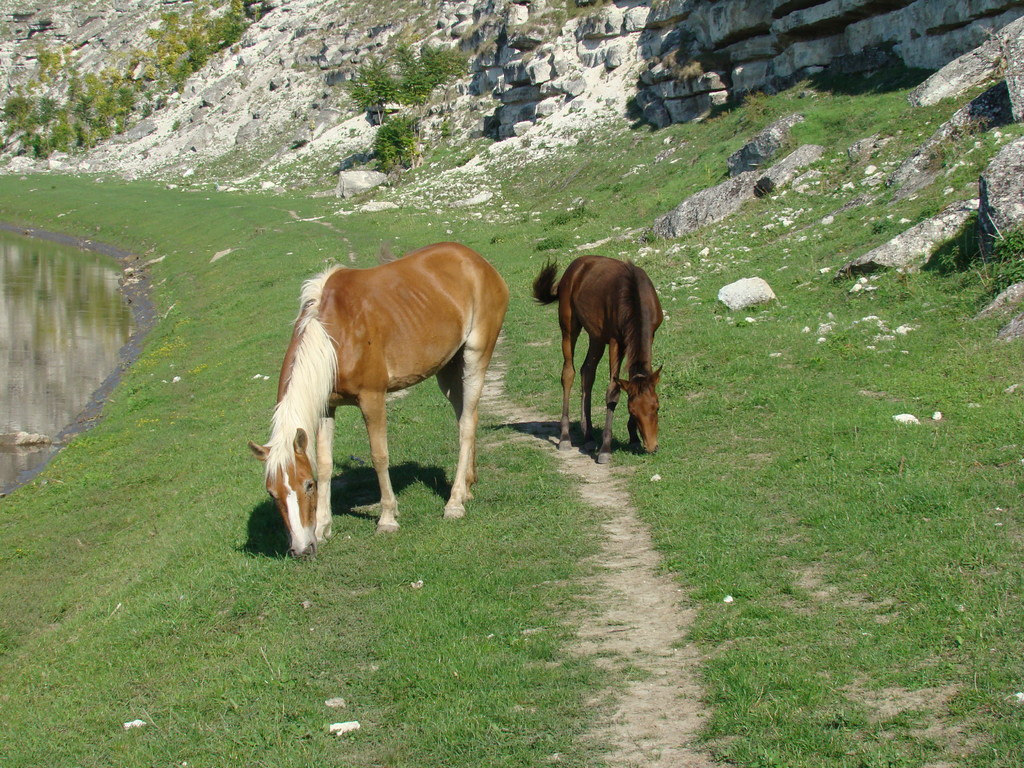horse: (530, 252, 668, 464)
